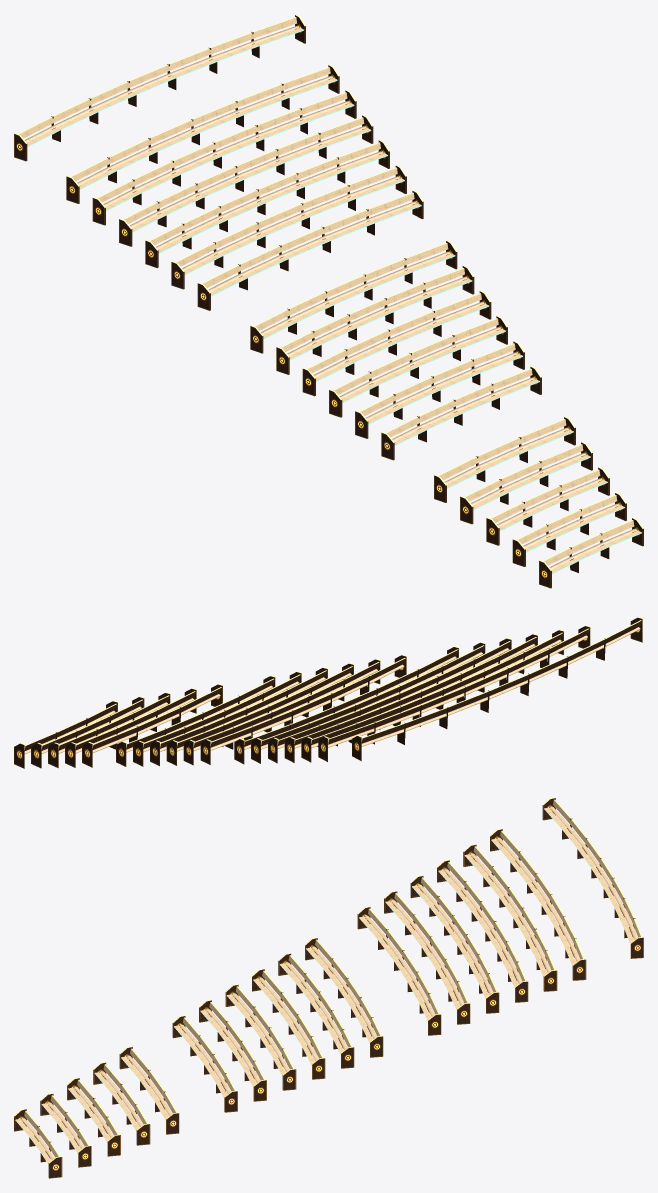
Rendered from mwm_mudbench2_gate_t.glb.
3 views of the same model, one above another, from view 1: azimuth 30°, elevation 25°; view 2: azimuth 210°, elevation 25°; view 3: azimuth 270°, elevation 25° (orthographic). The views are drawn at different scales.
Visible parts, largest first — view 1: cypress, endpanel, walnut, gold, edge_t; view 2: walnut, cypress, endpanel, gold; view 3: cypress, endpanel, walnut, gold, edge_t.
Boxes of the visible parts, x1,y1,x2,y2 form: cypress: [19, 17, 641, 573]; endpanel: [14, 15, 642, 588]; walnut: [26, 26, 643, 588]; gold: [14, 14, 643, 570]; edge_t: [27, 30, 641, 574]; walnut: [24, 620, 641, 750]; cypress: [24, 627, 640, 753]; endpanel: [14, 617, 642, 768]; gold: [20, 617, 643, 745]; cypress: [15, 800, 640, 1164]; endpanel: [14, 798, 643, 1178]; walnut: [14, 805, 635, 1178]; gold: [14, 797, 643, 1163]; edge_t: [15, 809, 622, 1164].
Bounding box in the file's own units: 20.46 × 16.24 × 38.6.
5 materials, 3 textured.
